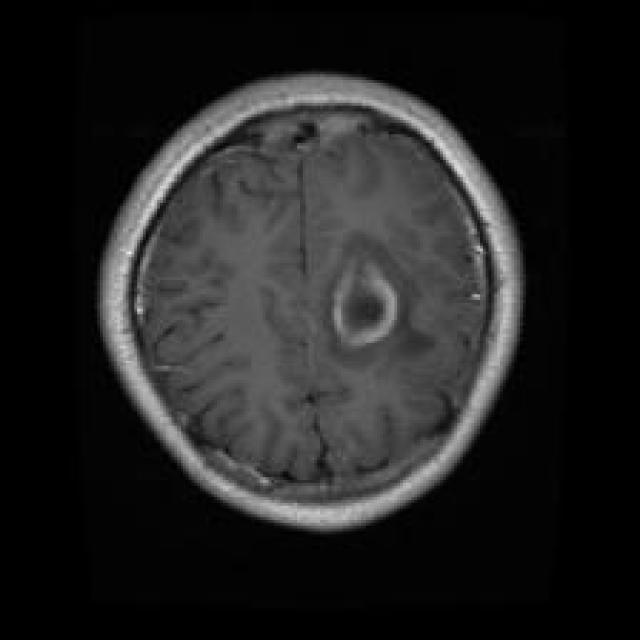glioma_tumor: (315, 221, 434, 379)
